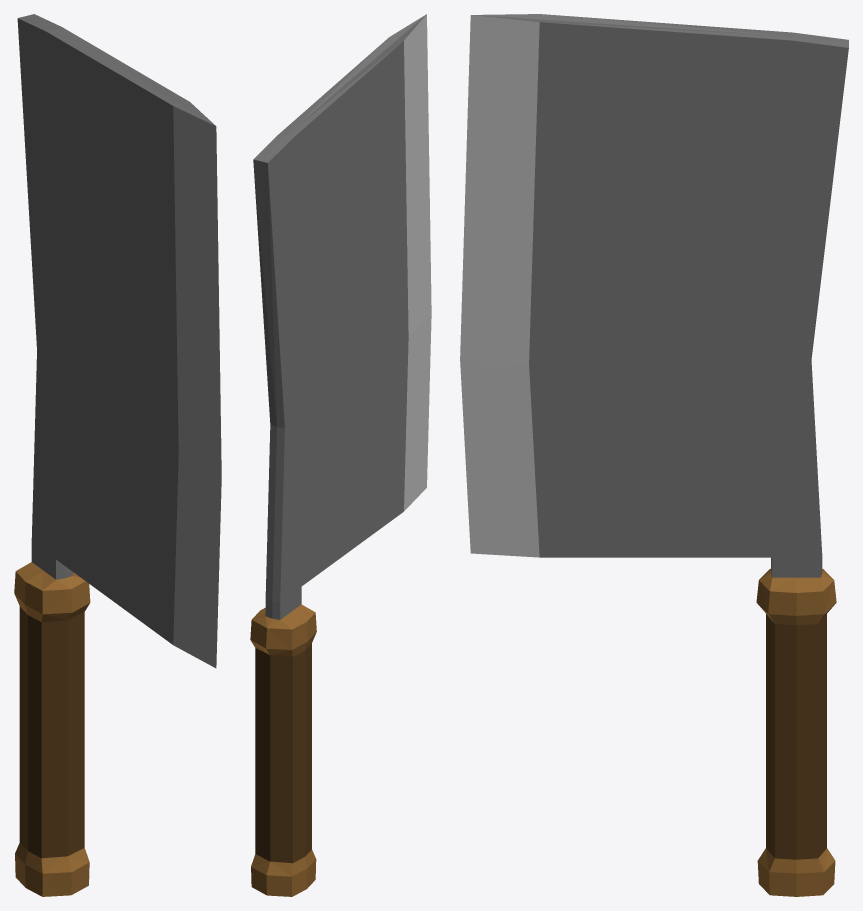
The model's file is Undead_Cleaver.fbx.
3 renders of one model, left to right at view 1: azimuth 30°, elevation 25°; view 2: azimuth 150°, elevation 25°; view 3: azimuth 270°, elevation 25°, orthographic. The views are drawn at different scales.
Visible parts, largest first — view 1: Undead_Cleaver; view 2: Undead_Cleaver; view 3: Undead_Cleaver.
Boxes of the visible parts, x1,y1,x2,y2 form: Undead_Cleaver: (14, 14, 221, 896); Undead_Cleaver: (250, 14, 431, 896); Undead_Cleaver: (460, 14, 848, 896).
Bounding box in the file's own units: 0.0423 × 0.6448 × 0.2615.
